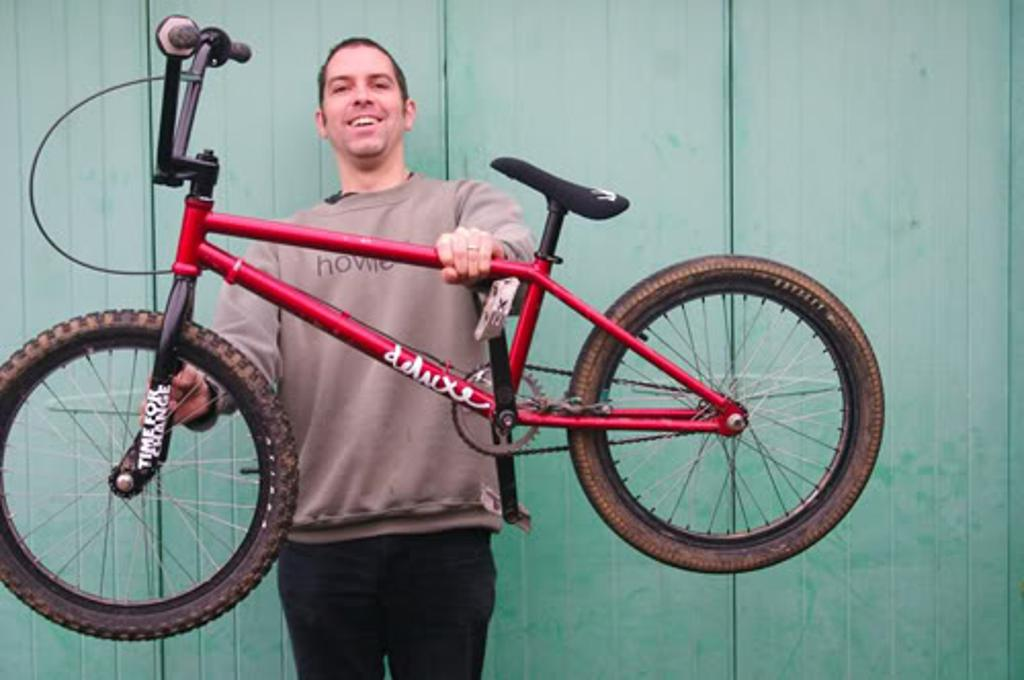face: (322, 42, 402, 158)
